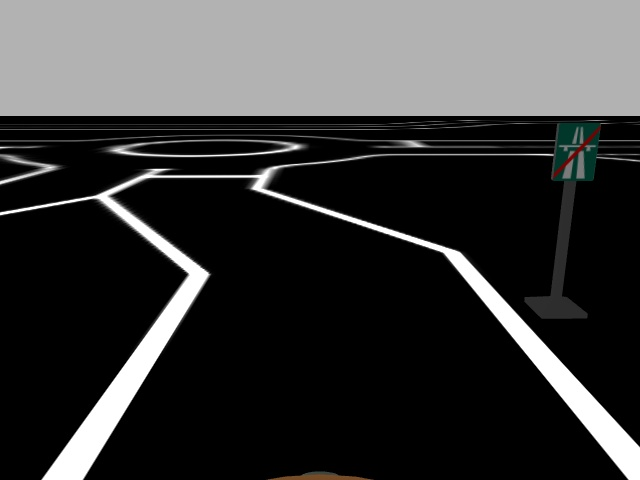leave_highway: (549, 121, 603, 183)
